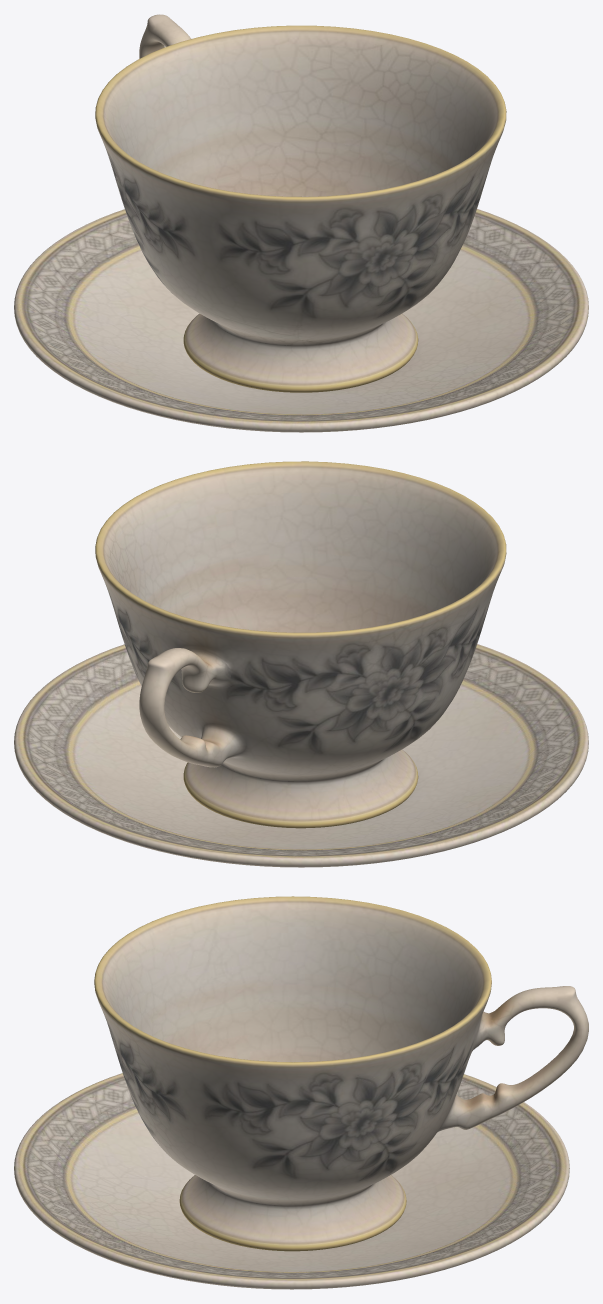
File: teacup.glb
3 renders of one model, top to bottom at view 1: azimuth 30°, elevation 25°; view 2: azimuth 150°, elevation 25°; view 3: azimuth 270°, elevation 25°, orthographic. The views are drawn at different scales.
Visible parts, largest first — view 1: tea_cup, tea_saucer; view 2: tea_cup, tea_saucer; view 3: tea_cup, tea_saucer.
Boxes of the visible parts, box(x1,y1,x2,y2) form: tea_cup: box(95, 14, 506, 392); tea_saucer: box(14, 209, 588, 432); tea_cup: box(95, 461, 506, 828); tea_saucer: box(14, 644, 588, 867); tea_cup: box(94, 896, 588, 1251); tea_saucer: box(14, 1073, 569, 1289).
Bounding box in the file's own units: 0.1486 × 0.0704 × 0.1537.
2 materials, 2 textured.
